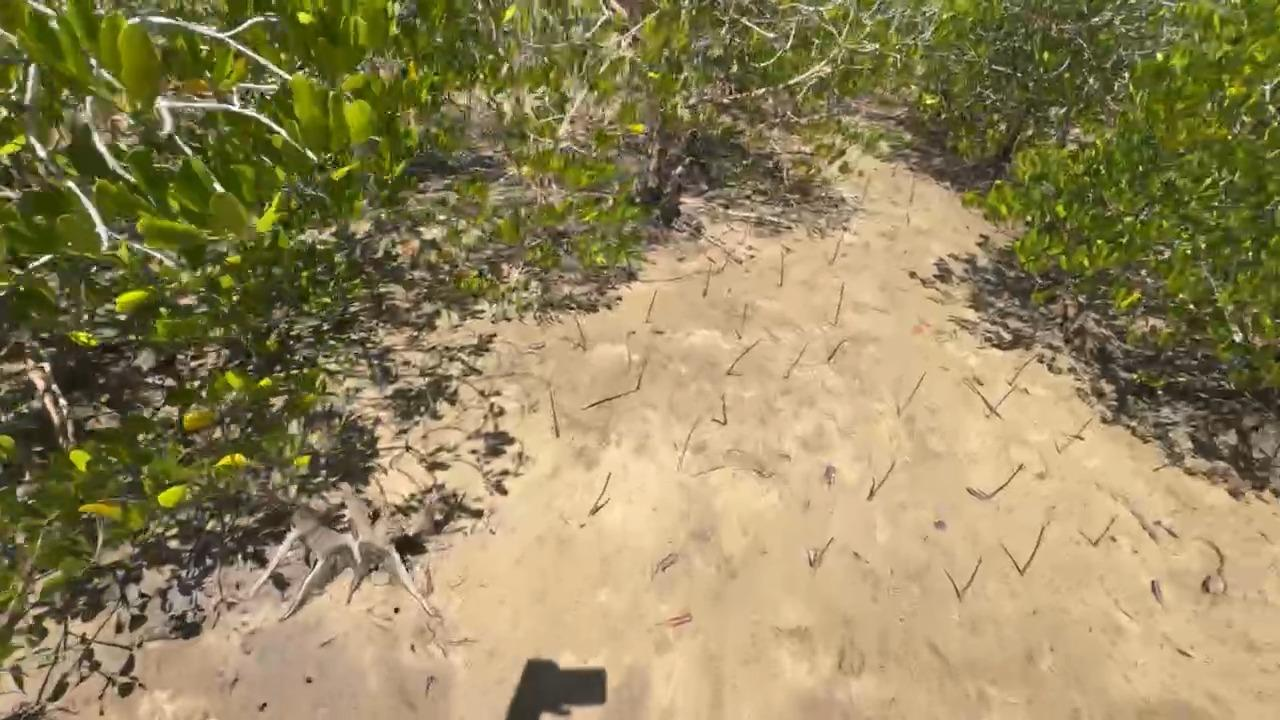Tree: (725, 340, 760, 374), (989, 463, 1023, 498), (1021, 525, 1045, 574), (588, 472, 612, 517), (985, 385, 1017, 418), (959, 555, 983, 598), (1008, 354, 1038, 386), (1093, 514, 1119, 546), (873, 460, 896, 493), (909, 371, 927, 401), (635, 355, 649, 390), (790, 342, 808, 369), (550, 391, 560, 438), (834, 282, 845, 324), (827, 339, 848, 361), (816, 537, 834, 562), (645, 289, 658, 323), (626, 330, 636, 371), (574, 315, 586, 349), (1075, 417, 1093, 438), (833, 234, 844, 262), (703, 263, 712, 297), (861, 174, 871, 198), (721, 392, 728, 425), (741, 303, 749, 326), (909, 177, 916, 202), (1152, 463, 1169, 472), (425, 676, 432, 697), (780, 252, 784, 286), (891, 163, 899, 176)
